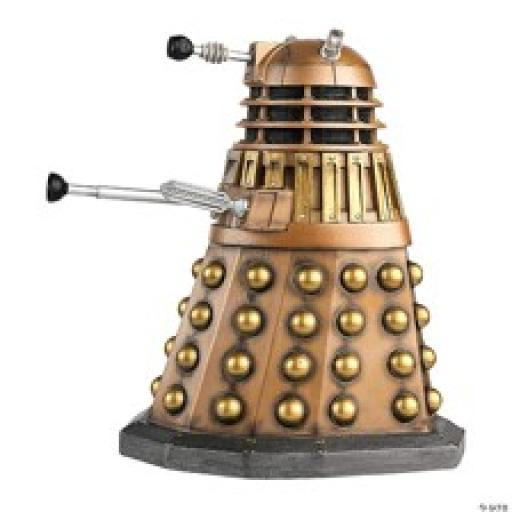dalek: (42, 28, 471, 482)
